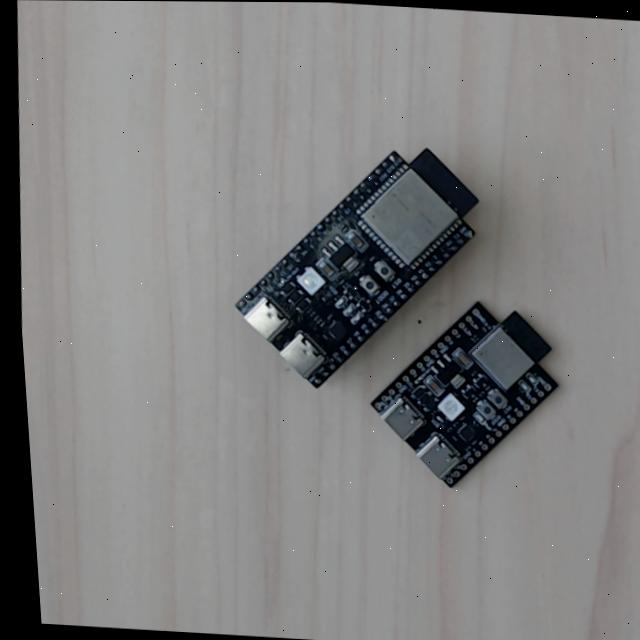ESP32C3-DevKit: (368, 285, 573, 489)
ESP32S3-Devkit: (232, 132, 493, 392)
